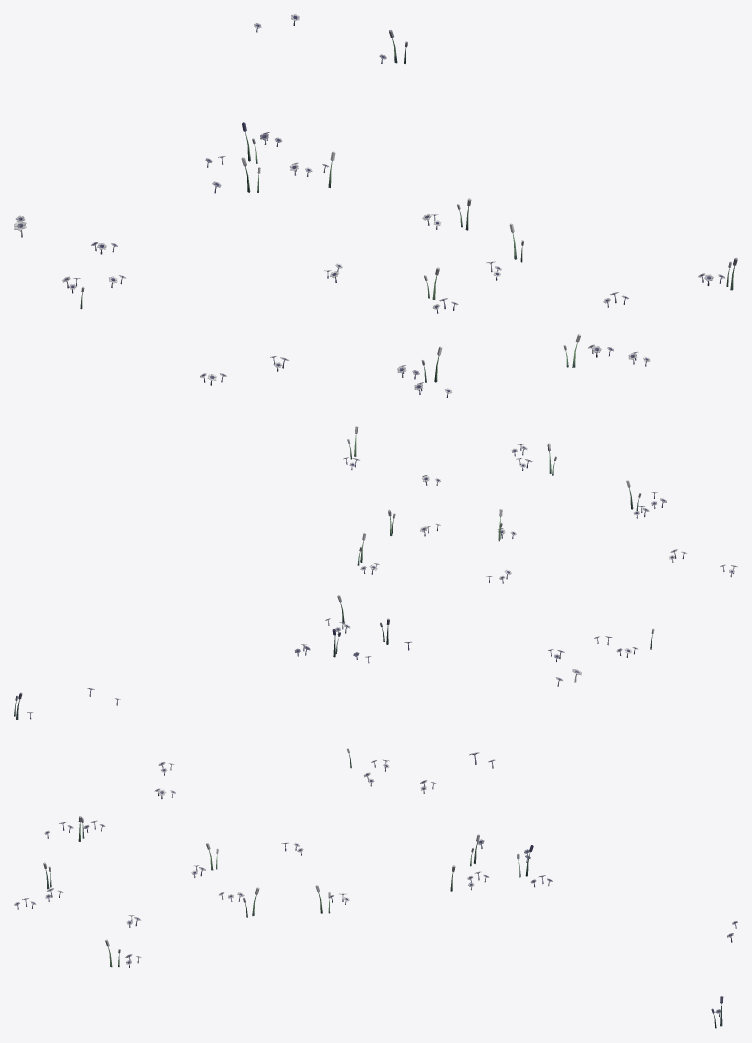
File: Plant_03.FBX
3 renders of one model, top to bottom at view 1: azimuth 30°, elevation 25°; view 2: azimuth 150°, elevation 25°; view 3: azimuth 270°, elevation 25°, orthographic. The views are drawn at different scales.
Parts seen in each view (by area): view 1: Plant_03; view 2: Plant_03; view 3: Plant_03.
Boxes of the visible parts, bbox=[...] form: Plant_03: bbox=[14, 14, 737, 397]; Plant_03: bbox=[14, 426, 737, 719]; Plant_03: bbox=[14, 748, 737, 1028].
Size of the model in its own units: 19.02 by 3.02 by 26.53.
